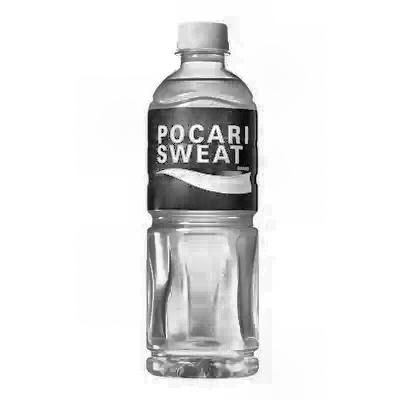waterbottle: (116, 8, 300, 385)
